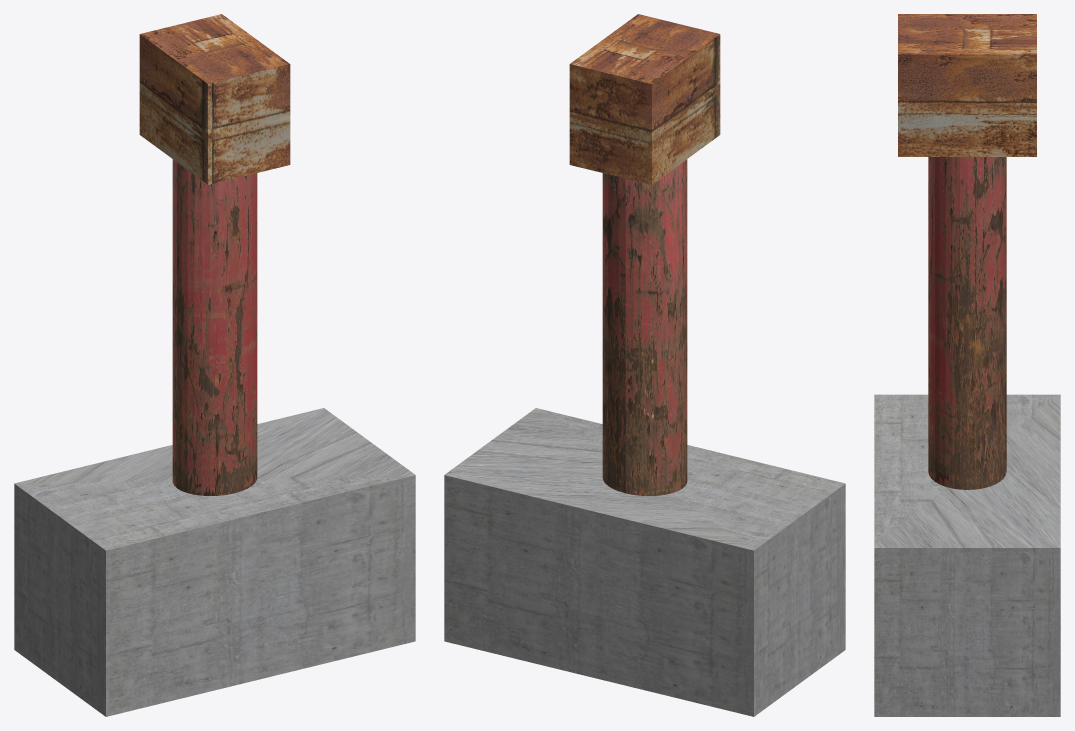
The model's file is barrira_base.dae.
3 renders of one model, left to right at view 1: azimuth 30°, elevation 25°; view 2: azimuth 150°, elevation 25°; view 3: azimuth 270°, elevation 25°, orthographic.
Visible parts, largest first — view 1: base, body, mecanica; view 2: base, body, mecanica; view 3: base, body, mecanica.
Part boxes in pixels (x1,y1,x2,y2): base: [14, 408, 415, 716]; body: [172, 159, 257, 495]; mecanica: [139, 14, 290, 184]; base: [444, 408, 845, 716]; body: [602, 159, 687, 495]; mecanica: [569, 14, 720, 184]; base: [874, 394, 1060, 716]; body: [928, 157, 1006, 489]; mecanica: [898, 14, 1036, 156].
Size of the model in its own units: 2 by 1.03 by 3.68.
